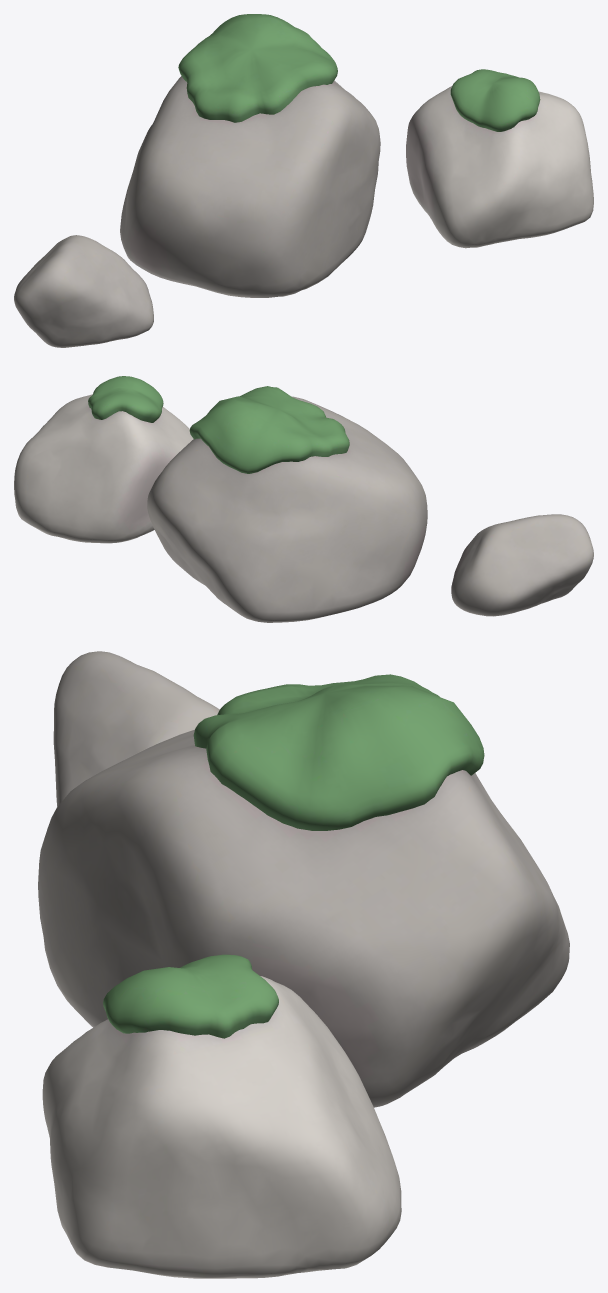
The model's file is boulder-rock-set.glb.
The picture shows the model from 3 angles, top to bottom: view 1: azimuth 30°, elevation 25°; view 2: azimuth 150°, elevation 25°; view 3: azimuth 270°, elevation 25°; orthographic projection. The views are drawn at different scales.
Visible parts, largest first — view 1: boulder-rock-set_body; view 2: boulder-rock-set_body; view 3: boulder-rock-set_body.
Boxes of the visible parts, x1=… form: boulder-rock-set_body: x1=14, y1=14, x2=593, y2=347; boulder-rock-set_body: x1=14, y1=376, x2=593, y2=622; boulder-rock-set_body: x1=38, y1=651, x2=569, y2=1278.
Size of the model in its own units: 3.42 by 1.14 by 1.5.
1 material, 1 textured.
